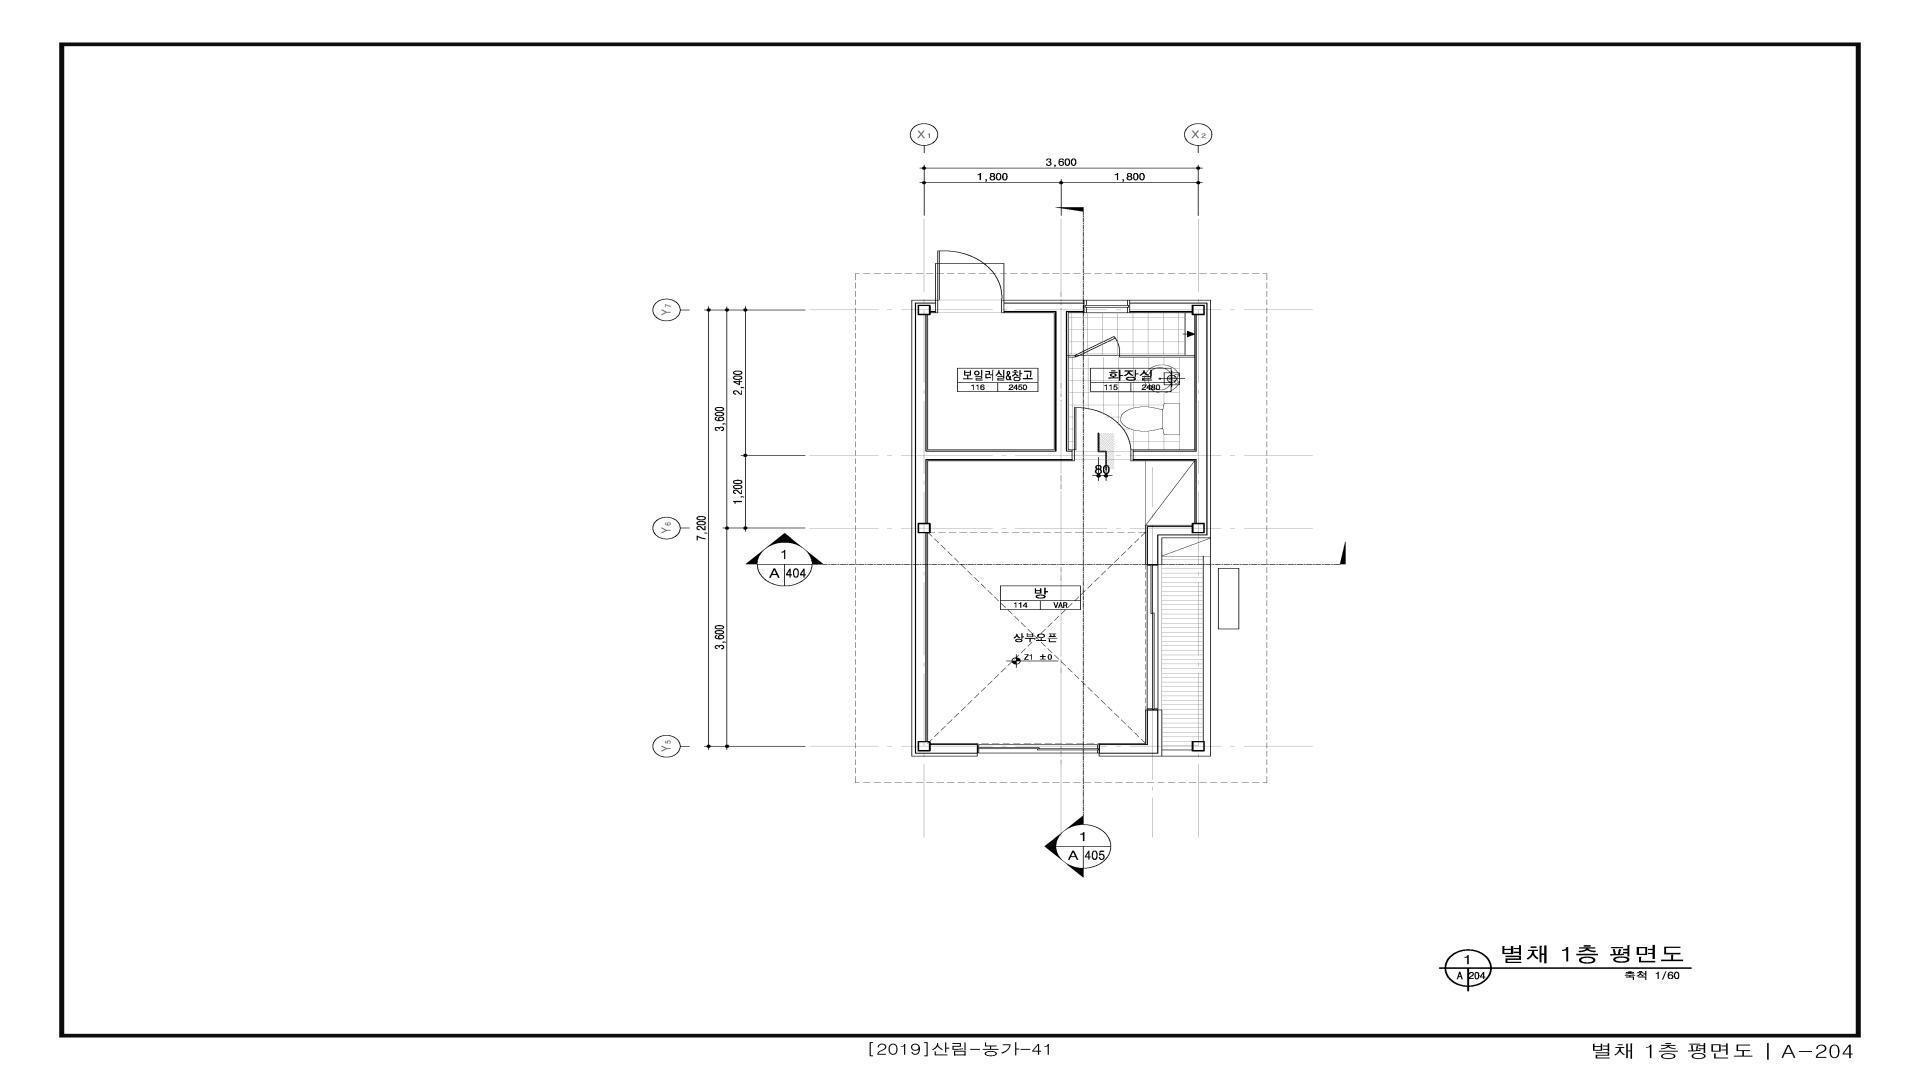door: (935, 251, 1004, 313), (1072, 407, 1133, 461), (1075, 336, 1120, 358)
wall: (912, 300, 1084, 756), (1130, 300, 1211, 565), (1099, 710, 1162, 756), (1120, 355, 1194, 358), (1069, 355, 1075, 357)
window: (1145, 565, 1162, 710), (978, 743, 1099, 753), (1084, 300, 1130, 313)
